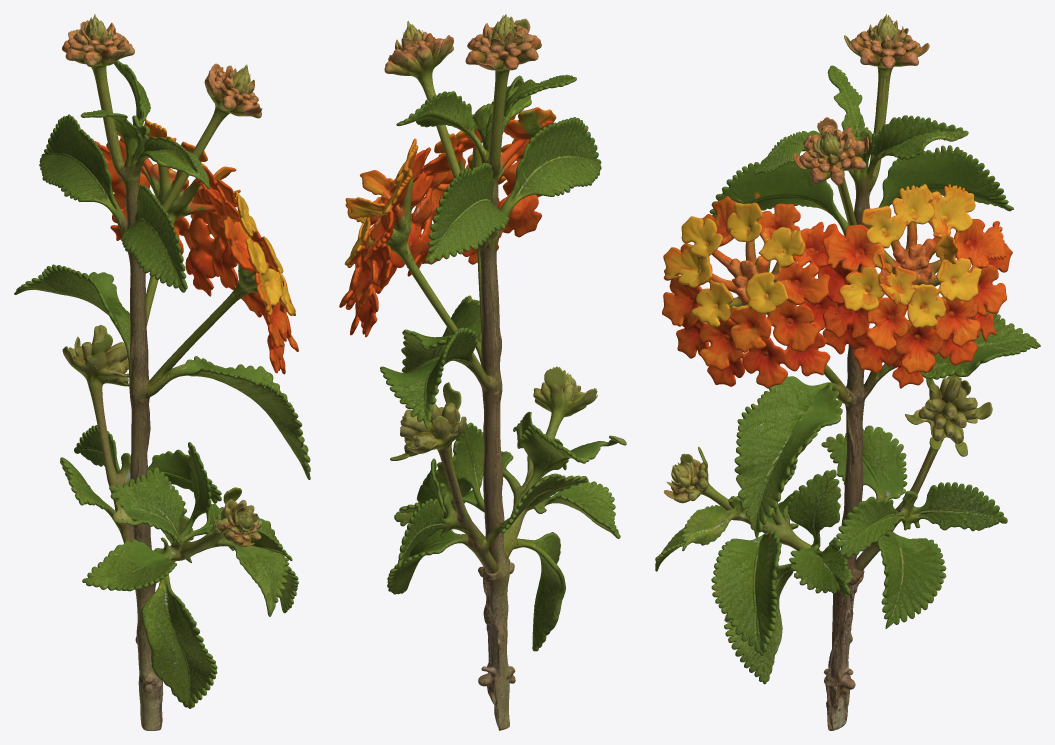
The model's file is lantana_camara.fbx.
3 views of the same model, side by side, from view 1: azimuth 30°, elevation 25°; view 2: azimuth 150°, elevation 25°; view 3: azimuth 270°, elevation 25° (orthographic). The views are drawn at different scales.
Visible parts, largest first — view 1: tripo_node_729e9926; view 2: tripo_node_729e9926; view 3: tripo_node_729e9926.
Boxes of the visible parts, <box> form: tripo_node_729e9926: <box>14,14,310,730</box>; tripo_node_729e9926: <box>339,14,626,730</box>; tripo_node_729e9926: <box>655,14,1040,730</box>.
Bounding box in the file's own units: 32.22 × 101 × 50.34.
1 material, 1 textured.
